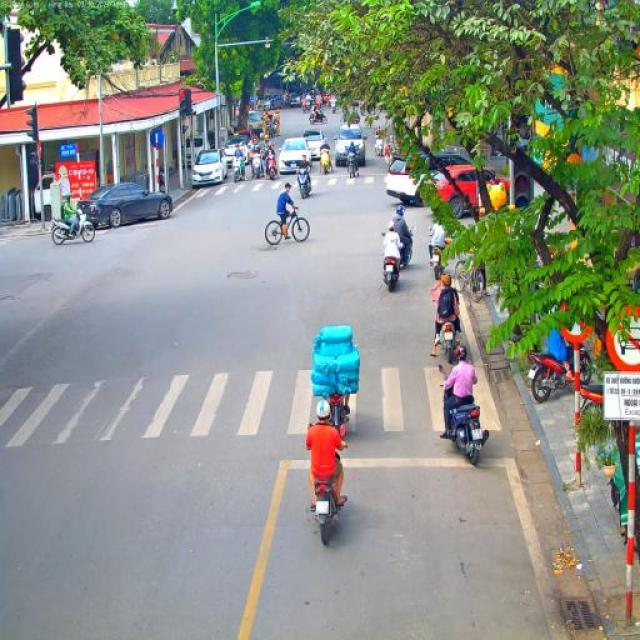car: (386, 152, 470, 208), (425, 164, 510, 218), (76, 182, 174, 228), (332, 127, 367, 168), (192, 149, 228, 187), (278, 136, 312, 175), (222, 135, 252, 165), (301, 130, 324, 158), (234, 128, 252, 148), (341, 120, 363, 136), (268, 94, 284, 110), (288, 92, 303, 108)
motorcycle: (438, 364, 490, 466), (527, 339, 597, 403), (310, 473, 344, 545), (558, 384, 607, 424), (50, 206, 96, 245), (437, 319, 468, 365), (381, 231, 403, 293), (326, 392, 352, 438), (430, 240, 450, 281), (399, 225, 416, 265), (296, 168, 312, 200), (344, 148, 360, 178), (318, 149, 332, 175), (233, 154, 245, 183), (250, 155, 264, 179), (266, 155, 279, 180), (308, 110, 328, 124), (374, 137, 384, 158), (388, 146, 397, 166), (266, 121, 276, 139), (331, 98, 337, 113), (302, 102, 308, 113)
truck: (33, 178, 72, 222), (193, 126, 228, 152), (246, 110, 264, 140), (256, 101, 269, 124)
